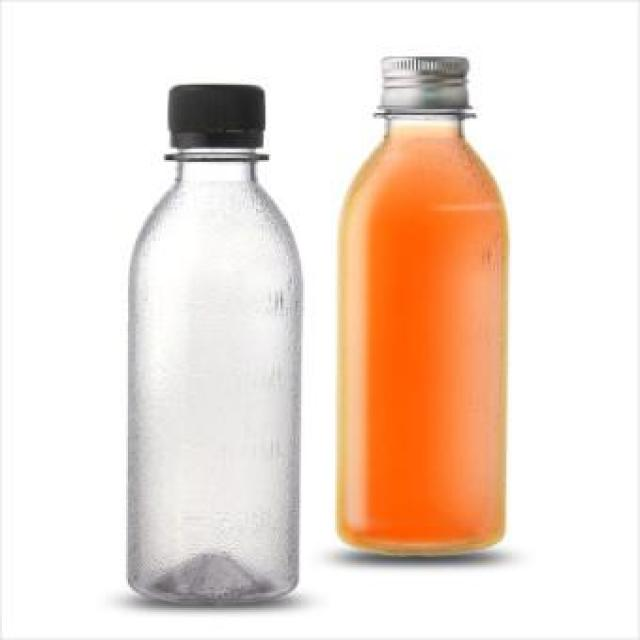bottle: (124, 86, 300, 603), (337, 57, 506, 556)
